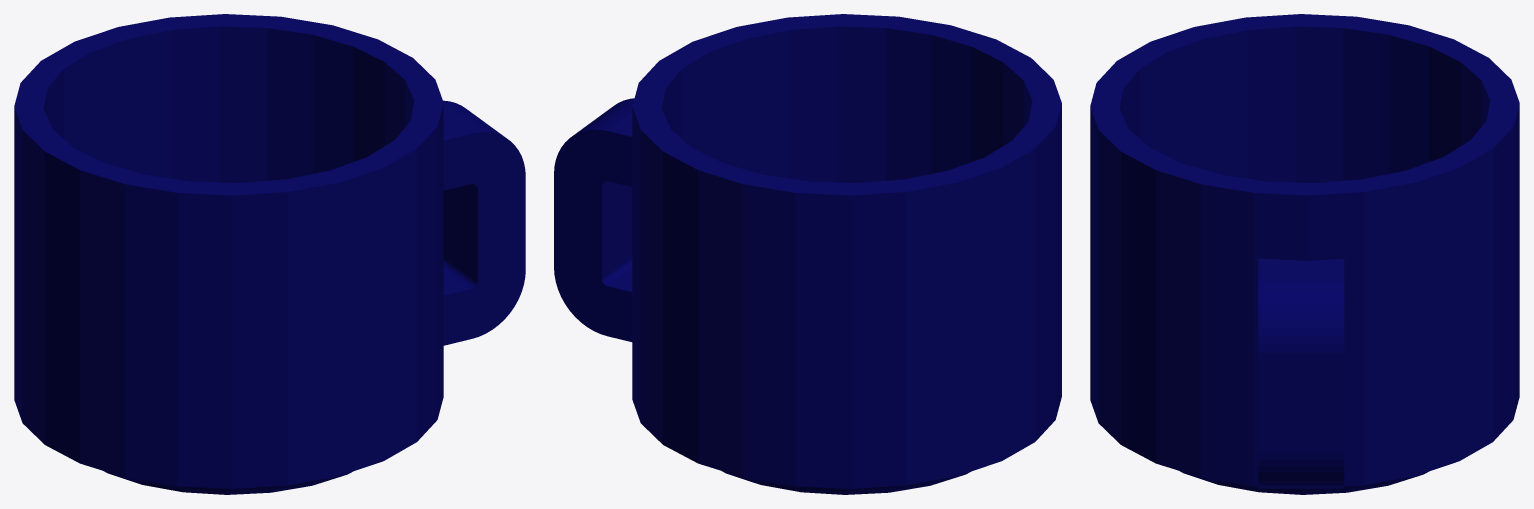
The picture shows the model from 3 angles, left to right: view 1: azimuth 30°, elevation 25°; view 2: azimuth 150°, elevation 25°; view 3: azimuth 270°, elevation 25°; orthographic projection.
Visible parts, largest first — view 1: mesh1.002_mesh1-geometry, mesh2.001_mesh2-geometry; view 2: mesh1.002_mesh1-geometry, mesh2.001_mesh2-geometry; view 3: mesh1.002_mesh1-geometry, mesh2.001_mesh2-geometry.
Boxes of the visible parts, bbox=[...] form: mesh1.002_mesh1-geometry: bbox=[14, 14, 443, 494]; mesh2.001_mesh2-geometry: bbox=[443, 100, 525, 345]; mesh1.002_mesh1-geometry: bbox=[632, 14, 1061, 494]; mesh2.001_mesh2-geometry: bbox=[554, 98, 634, 341]; mesh1.002_mesh1-geometry: bbox=[1090, 14, 1519, 494]; mesh2.001_mesh2-geometry: bbox=[1258, 258, 1344, 488].
Size of the model in its own units: 0.691 by 0.4577 by 0.5595.
